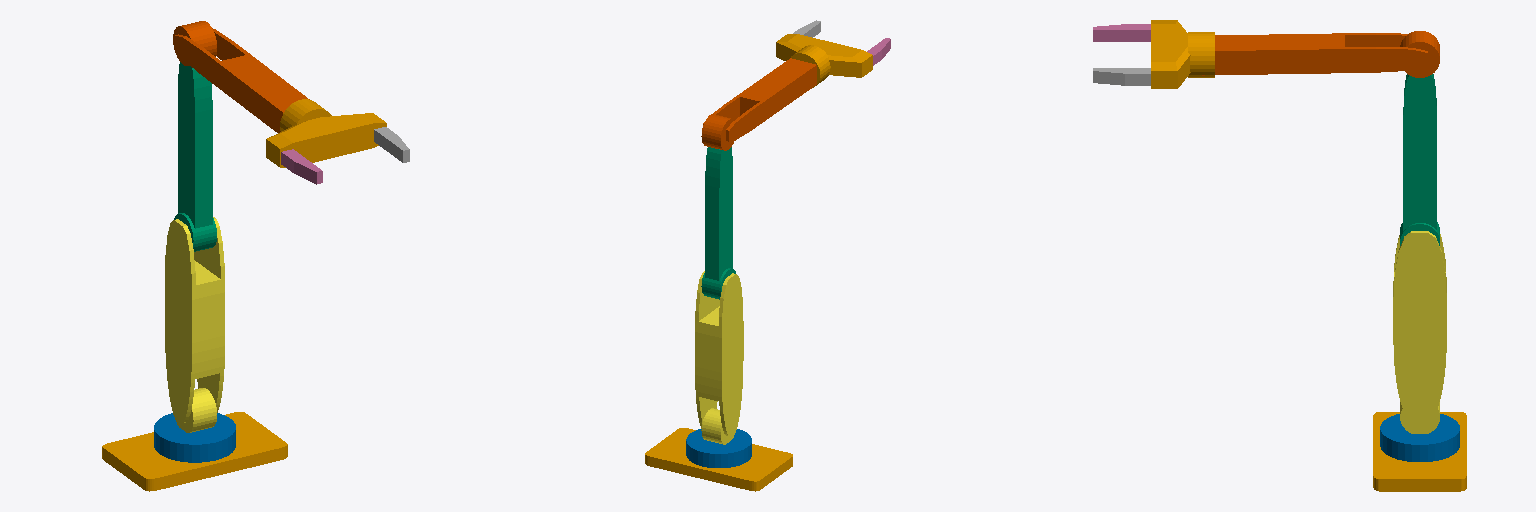
robot.urdf — robot_v2:
<robot name="robot_v2" version="1.0">
  <joint name="cabeza_pinza_link_joint" type="continuous">
    <limit lower="0" upper="0" effort="0.00000" velocity="0.00000"/>
    <origin rpy="1.57080 0.00000 0.00000" xyz="0.00498 -1.64000 -0.00000"/>
    <parent link="eje_brazo_4_link"/>
    <child link="cabeza_pinza_link"/>
    <axis xyz="0.00000 0.00000 1.00000"/>
  </joint>
  <joint name="eje_brazo_4.001_link_joint" type="revolute">
    <limit lower="-3.14000" upper="3.14000" effort="0.00000" velocity="0.00000"/>
    <origin rpy="0.00000 0.00000 -0.00000" xyz="-1.44730 0.00000 0.00000"/>
    <parent link="eje_brazo_4.002_link"/>
    <child link="eje_brazo_4.001_link"/>
    <axis xyz="0.00000 0.00000 1.00000"/>
  </joint>
  <joint name="eje_brazo_4.002_link_joint" type="revolute">
    <limit lower="-3.14000" upper="3.14000" effort="0.00000" velocity="0.00000"/>
    <origin rpy="0.00000 1.57080 0.00000" xyz="-0.00000 -0.00000 0.00000"/>
    <parent link="eje_brazo_4.003_link"/>
    <child link="eje_brazo_4.002_link"/>
    <axis xyz="0.00000 0.00000 1.00000"/>
  </joint>
  <joint name="eje_brazo_4.003_link_joint" type="continuous">
    <limit lower="0" upper="0" effort="0.00000" velocity="0.00000"/>
    <origin rpy="0.00000 0.00000 -1.57080" xyz="-0.00000 0.00000 0.33077"/>
    <parent link="plataforma_brazo_link"/>
    <child link="eje_brazo_4.003_link"/>
    <axis xyz="0.00000 0.00000 1.00000"/>
  </joint>
  <joint name="eje_brazo_4_link_joint" type="revolute">
    <limit lower="-3.14000" upper="3.14000" effort="0.00000" velocity="0.00000"/>
    <origin rpy="-0.00000 0.00000 0.00000" xyz="-1.50691 0.00000 0.00000"/>
    <parent link="eje_brazo_4.001_link"/>
    <child link="eje_brazo_4_link"/>
    <axis xyz="0.00000 0.00000 1.00000"/>
  </joint>
  <joint name="garra_derecha_link_joint" type="prismatic">
    <limit lower="-3.14000" upper="3.14000" effort="0.00000" velocity="0.00000"/>
    <origin rpy="-1.57080 0.00000 -0.00000" xyz="0.00000 -0.39000 0.56000"/>
    <parent link="cabeza_pinza_link"/>
    <child link="garra_derecha_link"/>
    <axis xyz="0.00000 0.00000 1.00000"/>
  </joint>
  <joint name="garra_izquierda_link_joint" type="prismatic">
    <limit lower="-3.14000" upper="3.14000" effort="0.00000" velocity="0.00000"/>
    <origin rpy="-1.57080 0.00000 -3.14159" xyz="-0.00000 0.39000 0.56000"/>
    <parent link="cabeza_pinza_link"/>
    <child link="garra_izquierda_link"/>
    <axis xyz="0.00000 0.00000 1.00000"/>
  </joint>
  <joint name="plataforma_brazo_link_joint" type="fixed">
    <origin rpy="0.00000 0.00000 1.57080" xyz="0.00000 0.10000 0.55000"/>
    <parent link="cuerpo_link"/>
    <child link="plataforma_brazo_link"/>
  </joint>
  <joint name="rueda_a_d_link_joint" type="continuous">
    <limit lower="0" upper="0" effort="0.00000" velocity="0.00000"/>
    <origin rpy="-0.00000 1.57080 0.00000" xyz="-1.00000 2.74000 -1.65000"/>
    <parent link="cuerpo_link"/>
    <child link="rueda_a_d_link"/>
    <axis xyz="0.00000 0.00000 1.00000"/>
  </joint>
  <joint name="rueda_a_i_link_joint" type="continuous">
    <limit lower="0" upper="0" effort="0.00000" velocity="0.00000"/>
    <origin rpy="-0.00000 1.57080 0.00000" xyz="1.00000 2.74000 -1.65000"/>
    <parent link="cuerpo_link"/>
    <child link="rueda_a_i_link"/>
    <axis xyz="0.00000 0.00000 1.00000"/>
  </joint>
  <joint name="rueda_d_l_link_joint" type="continuous">
    <limit lower="0" upper="0" effort="0.00000" velocity="0.00000"/>
    <origin rpy="-0.00000 1.57080 0.00000" xyz="1.00000 -0.26000 -1.65000"/>
    <parent link="cuerpo_link"/>
    <child link="rueda_d_l_link"/>
    <axis xyz="0.00000 0.00000 1.00000"/>
  </joint>
  <joint name="rueda_d_r_link_joint" type="continuous">
    <limit lower="0" upper="0" effort="0.00000" velocity="0.00000"/>
    <origin rpy="-0.00000 1.57080 0.00000" xyz="-1.00000 -0.26000 -1.65000"/>
    <parent link="cuerpo_link"/>
    <child link="rueda_d_r_link"/>
    <axis xyz="0.00000 0.00000 1.00000"/>
  </joint>
  <link name="cabeza_pinza_link">
    <collision name="cabeza_pinza_collision">
      <origin rpy="0.00000 0.00000 0.00000" xyz="0.00000 0.00000 0.00000"/>
      <geometry>
        <mesh filename="../meshes/stl/Cilindro.003.stl" scale="1.16667 1.16667 0.08029"/>
      </geometry>
    </collision>
    <visual name="cabeza_pinza">
      <origin rpy="0.00000 0.00000 -0.00000" xyz="-0.00000 0.00000 0.00000"/>
      <geometry>
        <mesh filename="../meshes/stl/Cilindro.003.stl" scale="1.16667 1.16667 0.08029"/>
      </geometry>
    </visual>
  </link>
  <link name="cuerpo_link">
    <inertial>
      <origin xyz="0.00000 0.00000 0.00000 " />
      <mass value="100.0" />
      <inertia ixx="0.0" ixy="0.0" ixz="0.0"
          iyy="0.0" iyz="0.0" izz="0.0" />

    </inertial>
    <collision name="cuerpo_collision">
      <origin rpy="0.00000 0.00000 0.00000" xyz="0.00000 0.00000 0.00000"/>
      <geometry>
        <mesh filename="../meshes/stl/Cubo.009.stl" scale="0.90000 0.70000 0.50000"/>
      </geometry>
    </collision>
    <visual name="cuerpo">
      <origin rpy="0.00000 0.00000 0.00000" xyz="0.00000 0.00000 0.00000"/>
      <geometry>
        <mesh filename="../meshes/stl/Cubo.009.stl" scale="0.90000 0.70000 0.50000"/>
      </geometry>
    </visual>
  </link>
  <link name="eje_brazo_4.001_link">
    <collision name="eje_brazo_4.001_collision">
      <origin rpy="-0.00000 0.00000 -0.00000" xyz="0.00000 0.00000 0.00000"/>
      <geometry>
        <mesh filename="../meshes/stl/Cilindro.004.stl" scale="1.00000 1.00000 0.08029"/>
      </geometry>
    </collision>
    <visual name="eje_brazo_4.001">
      <origin rpy="0.00000 0.00000 0.00000" xyz="0.00000 0.00000 0.00000"/>
      <geometry>
        <mesh filename="../meshes/stl/Cilindro.004.stl" scale="1.00000 1.00000 0.08029"/>
      </geometry>
    </visual>
  </link>
  <link name="eje_brazo_4.002_link">
    <collision name="eje_brazo_4.002_collision">
      <origin rpy="-0.00000 0.00000 -0.00000" xyz="0.00000 0.00000 0.00000"/>
      <geometry>
        <mesh filename="../meshes/stl/Cilindro.005.stl" scale="1.00000 1.00000 0.08029"/>
      </geometry>
    </collision>
    <visual name="eje_brazo_4.002">
      <origin rpy="0.00000 0.00000 0.00000" xyz="0.00000 0.00000 0.00000"/>
      <geometry>
        <mesh filename="../meshes/stl/Cilindro.005.stl" scale="1.00000 1.00000 0.08029"/>
      </geometry>
    </visual>
  </link>
  <link name="eje_brazo_4.003_link">
    <collision name="eje_brazo_4.003_collision">
      <origin rpy="-0.00000 1.57080 0.00000" xyz="-0.00000 -0.00000 0.00000"/>
      <geometry>
        <mesh filename="../meshes/stl/Cilindro.006.stl" scale="1.00000 1.00000 0.08029"/>
      </geometry>
    </collision>
    <visual name="eje_brazo_4.003">
      <origin rpy="0.00000 1.57080 0.00000" xyz="-0.00000 -0.00000 0.00000"/>
      <geometry>
        <mesh filename="../meshes/stl/Cilindro.006.stl" scale="1.00000 1.00000 0.08029"/>
      </geometry>
    </visual>
  </link>
  <link name="eje_brazo_4_link">
    <collision name="eje_brazo_4_collision">
      <origin rpy="-0.00000 0.00000 -0.00000" xyz="0.00000 0.00000 0.00000"/>
      <geometry>
        <mesh filename="../meshes/stl/Cilindro.002.stl" scale="1.00000 1.00000 0.08029"/>
      </geometry>
    </collision>
    <visual name="eje_brazo_4">
      <origin rpy="0.00000 0.00000 0.00000" xyz="0.00000 0.00000 0.00000"/>
      <geometry>
        <mesh filename="../meshes/stl/Cilindro.002.stl" scale="1.00000 1.00000 0.08029"/>
      </geometry>
    </visual>
  </link>
  <link name="garra_derecha_link">
    <collision name="garra_derecha_collision">
      <origin rpy="-0.00000 1.57080 -0.00000" xyz="-0.00000 0.00000 -0.00000"/>
      <geometry>
        <mesh filename="../meshes/stl/Cubo.011.stl" scale="0.05000 0.25000 0.05000"/>
      </geometry>
    </collision>
    <visual name="garra_derecha">
      <origin rpy="-0.00000 1.57080 -0.00000" xyz="-0.00000 -0.00000 -0.00000"/>
      <geometry>
        <mesh filename="../meshes/stl/Cubo.011.stl" scale="0.05000 0.25000 0.05000"/>
      </geometry>
    </visual>
  </link>
  <link name="garra_izquierda_link">
    <collision name="garra_izquierda_collision">
      <origin rpy="-0.00000 1.57080 0.00000" xyz="0.00000 0.00000 -0.00000"/>
      <geometry>
        <mesh filename="../meshes/stl/Cubo.011.stl" scale="0.05000 0.25000 0.05000"/>
      </geometry>
    </collision>
    <visual name="garra_izquierda">
      <origin rpy="-0.00000 1.57080 0.00000" xyz="0.00000 -0.00000 -0.00000"/>
      <geometry>
        <mesh filename="../meshes/stl/Cubo.011.stl" scale="0.05000 0.25000 0.05000"/>
      </geometry>
    </visual>
  </link>
  <link name="plataforma_brazo_link">
    <collision name="plataforma_brazo_collision">
      <origin rpy="0.00000 0.00000 0.00000" xyz="-0.00000 0.00000 0.00000"/>
      <geometry>
        <mesh filename="../meshes/stl/Cubo.stl" scale="0.35000 0.60000 0.05000"/>
      </geometry>
    </collision>
    <visual name="plataforma_brazo">
      <origin rpy="0.00000 0.00000 0.00000" xyz="-0.00000 0.00000 0.00000"/>
      <geometry>
        <mesh filename="../meshes/stl/Cubo.stl" scale="0.35000 0.60000 0.05000"/>
      </geometry>
    </visual>
  </link>
  <link name="rueda_a_d_link">
    <collision name="rueda_a_d_collision">
      <origin rpy="-3.14159 0.00000 3.14159" xyz="0.00000 0.00000 0.00000"/>
      <geometry>
        <mesh filename="../meshes/stl/Cilindro.stl" scale="0.55000 0.55000 0.15000"/>
      </geometry>
    </collision>
    <visual name="rueda_a_d">
      <origin rpy="3.14159 -0.00000 3.14159" xyz="0.00000 0.00000 0.00000"/>
      <geometry>
        <mesh filename="../meshes/stl/Cilindro.stl" scale="0.55000 0.55000 0.15000"/>
      </geometry>
    </visual>
  </link>
  <link name="rueda_a_i_link">
    <collision name="rueda_a_i_collision">
      <origin rpy="0.00000 0.00000 0.00000" xyz="-0.00000 0.00000 -0.00000"/>
      <geometry>
        <mesh filename="../meshes/stl/Cilindro.stl" scale="0.55000 0.55000 0.15000"/>
      </geometry>
    </collision>
    <visual name="rueda_a_i">
      <origin rpy="0.00000 0.00000 0.00000" xyz="-0.00000 0.00000 -0.00000"/>
      <geometry>
        <mesh filename="../meshes/stl/Cilindro.stl" scale="0.55000 0.55000 0.15000"/>
      </geometry>
    </visual>
  </link>
  <link name="rueda_d_l_link">
    <collision name="rueda_d_l_collision">
      <origin rpy="0.00000 0.00000 0.00000" xyz="-0.00000 0.00000 -0.00000"/>
      <geometry>
        <mesh filename="../meshes/stl/Cilindro.stl" scale="0.55000 0.55000 0.15000"/>
      </geometry>
    </collision>
    <visual name="rueda_d_l">
      <origin rpy="0.00000 0.00000 0.00000" xyz="-0.00000 0.00000 -0.00000"/>
      <geometry>
        <mesh filename="../meshes/stl/Cilindro.stl" scale="0.55000 0.55000 0.15000"/>
      </geometry>
    </visual>
  </link>
  <link name="rueda_d_r_link">
    <collision name="rueda_d_r_collision">
      <origin rpy="-3.14159 0.00000 3.14159" xyz="0.00000 0.00000 0.00000"/>
      <geometry>
        <mesh filename="../meshes/stl/Cilindro.stl" scale="0.55000 0.55000 0.15000"/>
      </geometry>
    </collision>
    <visual name="rueda_d_r">
      <origin rpy="3.14159 -0.00000 3.14159" xyz="0.00000 0.00000 0.00000"/>
      <geometry>
        <mesh filename="../meshes/stl/Cilindro.stl" scale="0.55000 0.55000 0.15000"/>
      </geometry>
    </visual>
  </link>
</robot>

--- Facts derived from the render (not from the file) ---
The picture shows the robot from 3 angles, left to right: view 1: azimuth 30°, elevation 25°; view 2: azimuth 150°, elevation 25°; view 3: azimuth 270°, elevation 25°; orthographic projection.
Model robot_v2 with 13 links and 12 joints (3 revolute, 6 continuous, 2 prismatic, 1 fixed), rooted at cuerpo_link, posed every joint at zero.
Links seen in each view (by area): view 1: eje_brazo_4.002_link, eje_brazo_4_link, plataforma_brazo_link, eje_brazo_4.001_link, cabeza_pinza_link, eje_brazo_4.003_link, garra_derecha_link, garra_izquierda_link; view 2: eje_brazo_4.002_link, eje_brazo_4_link, eje_brazo_4.001_link, plataforma_brazo_link, cabeza_pinza_link, eje_brazo_4.003_link; view 3: eje_brazo_4.002_link, eje_brazo_4_link, eje_brazo_4.001_link, plataforma_brazo_link, cabeza_pinza_link, eje_brazo_4.003_link, garra_derecha_link, garra_izquierda_link.
Link boxes in pixels (<box>): eje_brazo_4.002_link: <box>165,217,224,432</box>; eje_brazo_4_link: <box>173,21,309,132</box>; plataforma_brazo_link: <box>102,412,287,491</box>; eje_brazo_4.001_link: <box>174,62,216,251</box>; cabeza_pinza_link: <box>266,99,386,167</box>; eje_brazo_4.003_link: <box>154,413,235,462</box>; garra_derecha_link: <box>281,149,322,184</box>; garra_izquierda_link: <box>374,127,409,162</box>; eje_brazo_4.002_link: <box>695,271,743,444</box>; eje_brazo_4_link: <box>701,58,816,150</box>; eje_brazo_4.001_link: <box>701,147,735,299</box>; plataforma_brazo_link: <box>645,428,792,491</box>; cabeza_pinza_link: <box>776,34,872,87</box>; eje_brazo_4.003_link: <box>686,429,751,467</box>; eje_brazo_4.002_link: <box>1393,231,1446,433</box>; eje_brazo_4_link: <box>1202,31,1439,77</box>; eje_brazo_4.001_link: <box>1400,74,1439,245</box>; plataforma_brazo_link: <box>1373,412,1466,491</box>; cabeza_pinza_link: <box>1151,20,1214,88</box>; eje_brazo_4.003_link: <box>1380,414,1459,461</box>; garra_derecha_link: <box>1093,24,1150,41</box>; garra_izquierda_link: <box>1093,68,1150,85</box>.
Bounding box of the posed robot: 1.2 × 2.8 × 3.5 m (x, y, z).
8 mesh visuals loaded from 9 distinct referenced files (7 binary STL); not drawn: 5 (reference not matched to a file when rendering).
